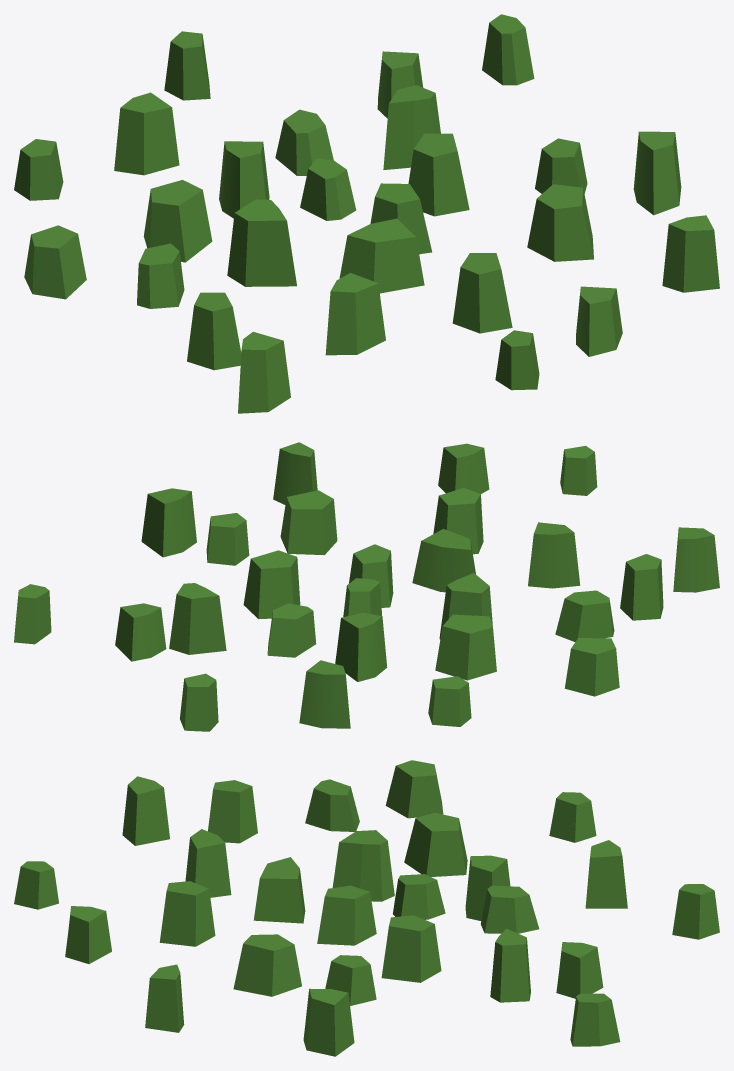
File: grass_layer_crumbs_mini_set_E.fbx
3 renders of one model, top to bottom at view 1: azimuth 30°, elevation 25°; view 2: azimuth 150°, elevation 25°; view 3: azimuth 270°, elevation 25°, orthographic. The views are drawn at different scales.
Parts seen in each view (by area): view 1: grass_layer_crumb_spec_B4, grass_layer_crumb_spec_A8, grass_layer_crumb_spec_A15, grass_layer_crumb_spec_C11, grass_layer_crumb_spec_C3, grass_layer_crumb_spec_A10, grass_layer_crumb_spec_C7, grass_layer_crumb_spec_C10, grass_layer_crumb_spec_A16, grass_layer_crumb_spec_C6, grass_layer_crumb_spec_A5, grass_layer_crumb_spec_A4 (+14 smaller); view 2: grass_layer_crumb_spec_C3, grass_layer_crumb_spec_B5, grass_layer_crumb_spec_C11, grass_layer_crumb_spec_A4, grass_layer_crumb_spec_C7, grass_layer_crumb_spec_A10, grass_layer_crumb_spec_A14, grass_layer_crumb_spec_A15, grass_layer_crumb_spec_A8, grass_layer_crumb_spec_C6, grass_layer_crumb_spec_A5, grass_layer_crumb_spec_C5 (+14 smaller); view 3: grass_layer_crumb_spec_C11, grass_layer_crumb_spec_C7, grass_layer_crumb_spec_B4, grass_layer_crumb_spec_C3, grass_layer_crumb_spec_C10, grass_layer_crumb_spec_C2, grass_layer_crumb_spec_A4, grass_layer_crumb_spec_A8, grass_layer_crumb_spec_A5, grass_layer_crumb_spec_C6, grass_layer_crumb_spec_C5, grass_layer_crumb_spec_B5 (+14 smaller).
Boxes of the visible parts, x1,y1,x2,y2 form: grass_layer_crumb_spec_B4: [227, 199, 296, 286]; grass_layer_crumb_spec_A8: [339, 218, 424, 293]; grass_layer_crumb_spec_A15: [114, 92, 179, 175]; grass_layer_crumb_spec_C11: [527, 184, 593, 261]; grass_layer_crumb_spec_C3: [143, 180, 212, 262]; grass_layer_crumb_spec_A10: [325, 273, 385, 355]; grass_layer_crumb_spec_C7: [408, 133, 469, 216]; grass_layer_crumb_spec_C10: [452, 253, 512, 333]; grass_layer_crumb_spec_A16: [662, 215, 719, 292]; grass_layer_crumb_spec_C6: [24, 225, 86, 299]; grass_layer_crumb_spec_A5: [238, 331, 290, 413]; grass_layer_crumb_spec_A4: [633, 131, 681, 215]; grass_layer_crumb_spec_C3: [435, 614, 496, 680]; grass_layer_crumb_spec_B5: [169, 583, 226, 654]; grass_layer_crumb_spec_C11: [280, 490, 337, 555]; grass_layer_crumb_spec_A4: [141, 488, 196, 557]; grass_layer_crumb_spec_C7: [243, 550, 300, 619]; grass_layer_crumb_spec_A10: [528, 522, 580, 588]; grass_layer_crumb_spec_A14: [335, 612, 387, 681]; grass_layer_crumb_spec_A15: [299, 660, 350, 728]; grass_layer_crumb_spec_A8: [412, 529, 475, 592]; grass_layer_crumb_spec_C6: [564, 638, 619, 696]; grass_layer_crumb_spec_A5: [673, 527, 719, 592]; grass_layer_crumb_spec_C5: [620, 554, 663, 620]; grass_layer_crumb_spec_C11: [233, 934, 301, 996]; grass_layer_crumb_spec_C7: [381, 915, 441, 982]; grass_layer_crumb_spec_B4: [332, 830, 394, 901]; grass_layer_crumb_spec_C3: [404, 812, 467, 876]; grass_layer_crumb_spec_C10: [159, 881, 215, 946]; grass_layer_crumb_spec_C2: [317, 885, 376, 945]; grass_layer_crumb_spec_A4: [303, 988, 354, 1056]; grass_layer_crumb_spec_A8: [253, 857, 305, 923]; grass_layer_crumb_spec_A5: [122, 776, 169, 845]; grass_layer_crumb_spec_C6: [385, 760, 443, 818]; grass_layer_crumb_spec_C5: [208, 780, 257, 843]; grass_layer_crumb_spec_B5: [490, 928, 530, 1002].
Bounding box in the file's own units: 159 × 17.32 × 189.
